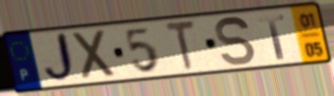5: (125, 25, 162, 75)
J: (41, 30, 79, 86)
S: (214, 15, 258, 68)
T: (164, 18, 198, 73), (256, 12, 287, 61)
X: (69, 28, 119, 83)
